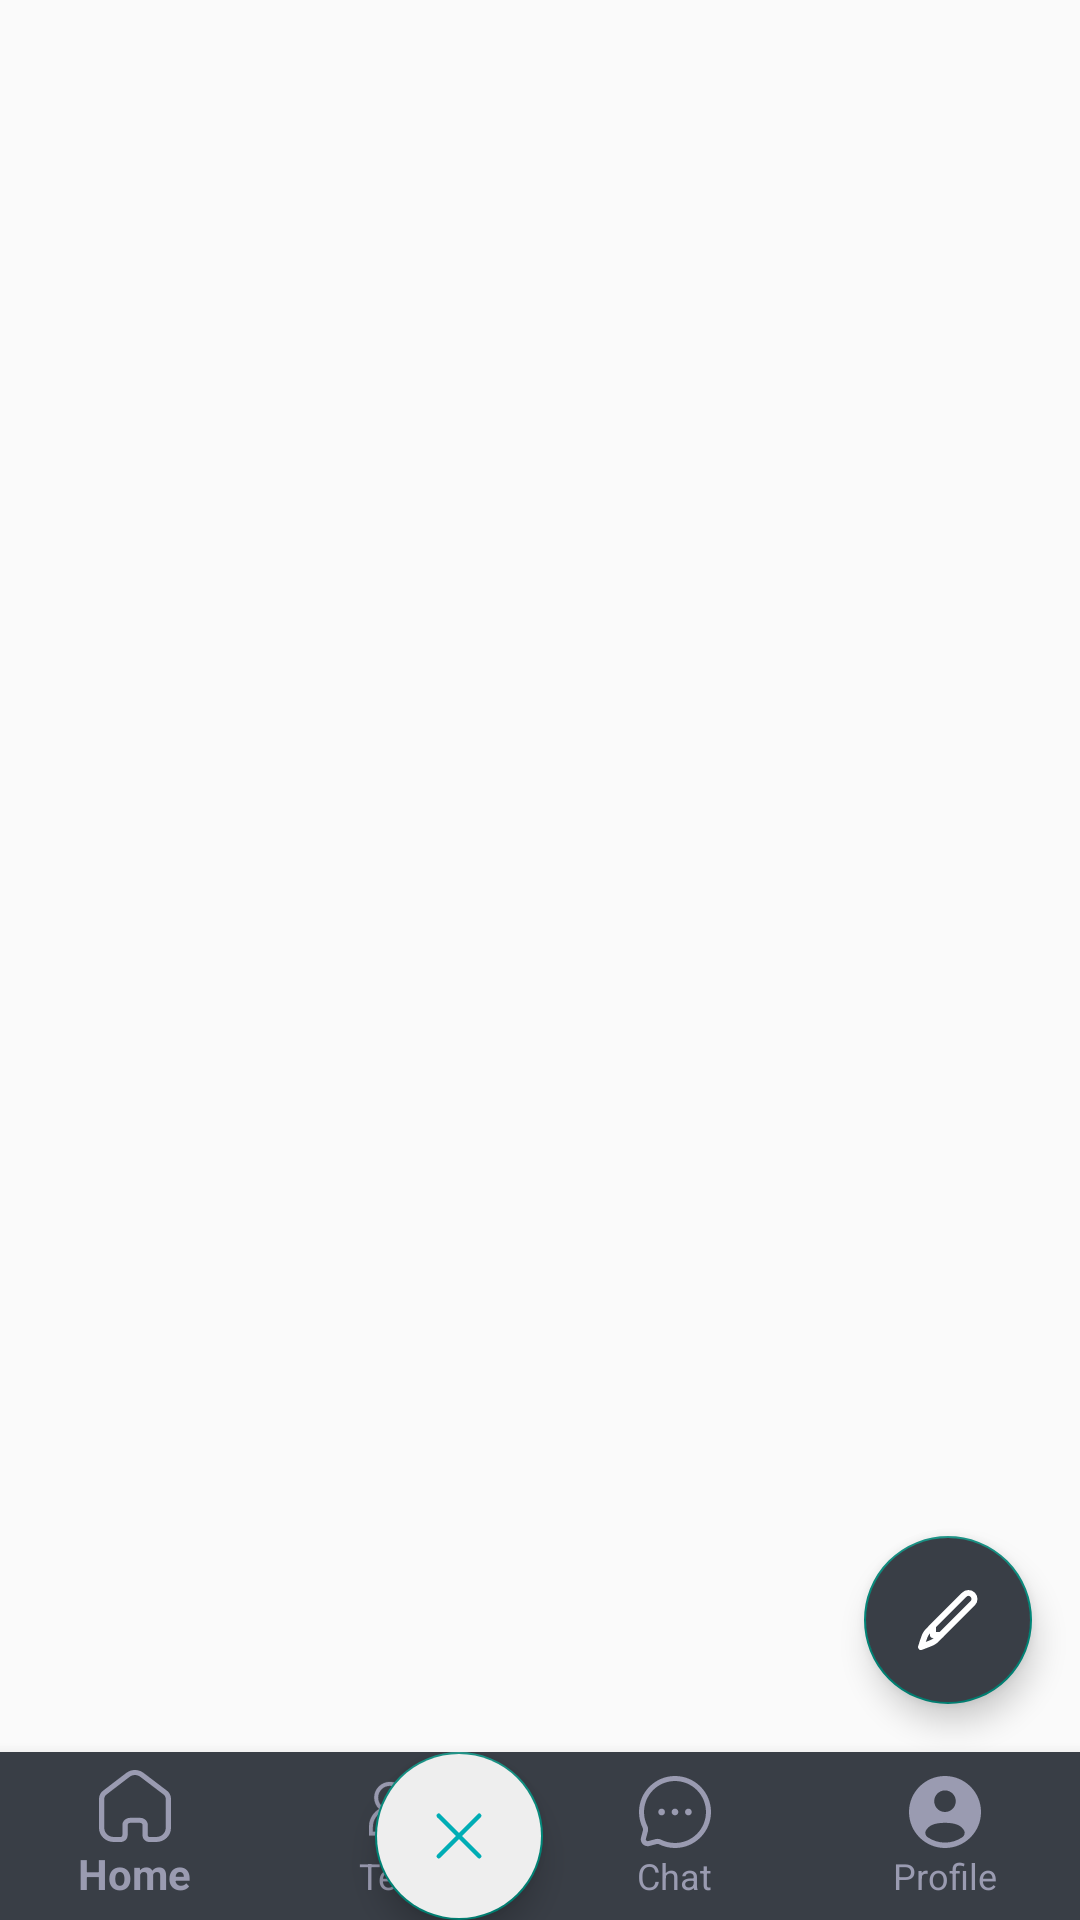

Icons on this 1080 x 1920 Android screen, each with the point to tap as (x=x, y=y):
close: (x=459, y=1836)
pencil: (x=948, y=1620)
